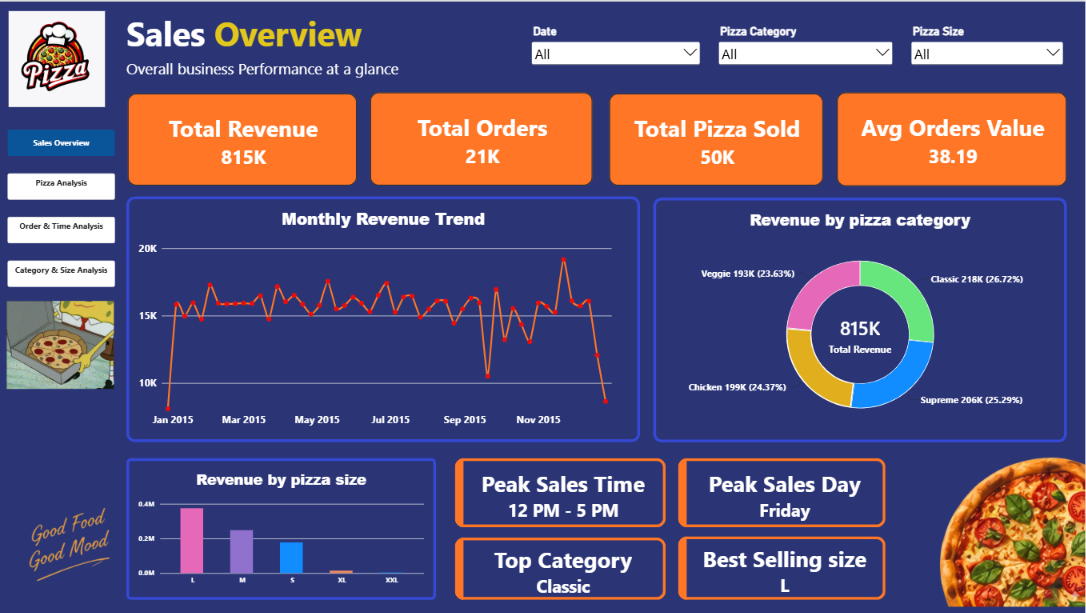

Layout of this report page (visuals, bound fields, positions):
{"tool":"powerbi","page":{"name":" Sales Overview","canvas":[1920,1080],"ordinal":0},"visuals":[{"type":"image","box":[18.8,15.1,170,170.8],"z":0},{"type":"textbox","box":[226.1,15.1,470.3,78.4],"z":1000},{"type":"textbox","box":[226.1,99.9,512.9,38.8],"z":2000},{"type":"cardVisual","fields":{"Data":["Measure.Total Revenue"]},"box":[227.6,162.5,405.1,163.9],"z":3000},{"type":"cardVisual","fields":{"Data":["Measure.Total Orders"]},"box":[655.3,160.6,393.8,165.8],"z":4000},{"type":"cardVisual","fields":{"Data":["Measure.Total Pizza Sold"]},"box":[1077.3,162.5,378.7,163.9],"z":5000},{"type":"cardVisual","fields":{"Data":["Measure.Avg Orders Value"]},"box":[1480,160,406,166],"z":6000},{"type":"lineChart","title":"Monthly Revenue Trend","fields":{"Category":["Dim_Date.Year Hierarchy.Year","Dim_Date.Year Hierarchy.Start of Quarter","Dim_Date.Year Hierarchy.Start of Month","Dim_Date.Year Hierarchy.Start of Week","Dim_Date.Year Hierarchy.Day Name","Dim_Date.Year Hierarchy.Month Name"],"Y":["Measure.Total Revenue"]},"box":[226.7,343.3,906.7,433.3],"z":7000},{"type":"donutChart","title":"Revenue by pizza category","fields":{"Category":["Dim_Pizza.pizza_category"],"Y":["Measure.Total Revenue"]},"box":[1156,346,730,432],"z":8000},{"type":"cardVisual","fields":{"Data":["Min(Dim_Date.Day Name)"]},"box":[1200,806,366,122],"z":9000},{"type":"cardVisual","fields":{"Data":["Min(Dim_Pizza.pizza_category)"]},"box":[805,945,372.5,110],"z":10000},{"type":"cardVisual","fields":{"Data":["Min(Fact_sales.Time Slot)"]},"box":[805,805,372.5,122.5],"z":11000},{"type":"columnChart","title":"Revenue by pizza size","fields":{"Category":["Dim_Pizza.pizza_size"],"Y":["Measure.Total Revenue"]},"box":[226.7,806.7,546.7,250],"z":12000},{"type":"image","box":[1645.2,790.5,275,280],"z":13000},{"type":"cardVisual","fields":{"Data":["Min(Dim_Pizza.pizza_size)"]},"box":[1200,944,366,112],"z":14000},{"type":"slicer","fields":{"Values":["Dim_Pizza.pizza_size"]},"box":[1606.7,26.7,278.8,103.8],"z":15000},{"type":"slicer","fields":{"Values":["Dim_Pizza.pizza_category"]},"box":[1266.7,26.7,317.5,120],"z":16000},{"type":"slicer","fields":{"Values":["Dim_Date.Year Hierarchy.Year","Dim_Date.Year Hierarchy.Start of Quarter","Dim_Date.Year Hierarchy.Start of Month","Dim_Date.Year Hierarchy.Start of Week","Dim_Date.Year Hierarchy.Day Name","Dim_Date.Year Hierarchy.Month Name"]},"box":[936.7,26.7,307.8,92.2],"z":17000},{"type":"pageNavigator","box":[15,225,190,280],"z":18000},{"type":"image","box":[14,520,190,172],"z":19000},{"type":"image","box":[0,846,236,234],"z":20000}]}

Visuals, with their boxes in screenshot pixels (x1, y1, x2, y2), scaled from the page's 1920x1080 canvas onto the 1086x613 screenshot:
image: l=11, t=9, r=107, b=106
textbox: l=128, t=9, r=394, b=53
textbox: l=128, t=57, r=418, b=79
cardVisual - Measure.Total Revenue: l=129, t=92, r=358, b=185
cardVisual - Measure.Total Orders: l=371, t=91, r=593, b=185
cardVisual - Measure.Total Pizza Sold: l=609, t=92, r=824, b=185
cardVisual - Measure.Avg Orders Value: l=837, t=91, r=1067, b=185
"Monthly Revenue Trend" lineChart: l=128, t=195, r=641, b=441
"Revenue by pizza category" donutChart: l=654, t=196, r=1067, b=442
cardVisual - Min(Dim_Date.Day Name): l=679, t=457, r=886, b=527
cardVisual - Min(Dim_Pizza.pizza_category): l=455, t=536, r=666, b=599
cardVisual - Min(Fact_sales.Time Slot): l=455, t=457, r=666, b=526
"Revenue by pizza size" columnChart: l=128, t=458, r=437, b=600
image: l=931, t=449, r=1085, b=608
cardVisual - Min(Dim_Pizza.pizza_size): l=679, t=536, r=886, b=599
slicer - Dim_Pizza.pizza_size: l=909, t=15, r=1066, b=74
slicer - Dim_Pizza.pizza_category: l=716, t=15, r=896, b=83
slicer - Dim_Date.Year Hierarchy.Year x Dim_Date.Year Hierarchy.Start of Quarter: l=530, t=15, r=704, b=67
pageNavigator: l=8, t=128, r=116, b=287
image: l=8, t=295, r=115, b=393
image: l=0, t=480, r=133, b=612
